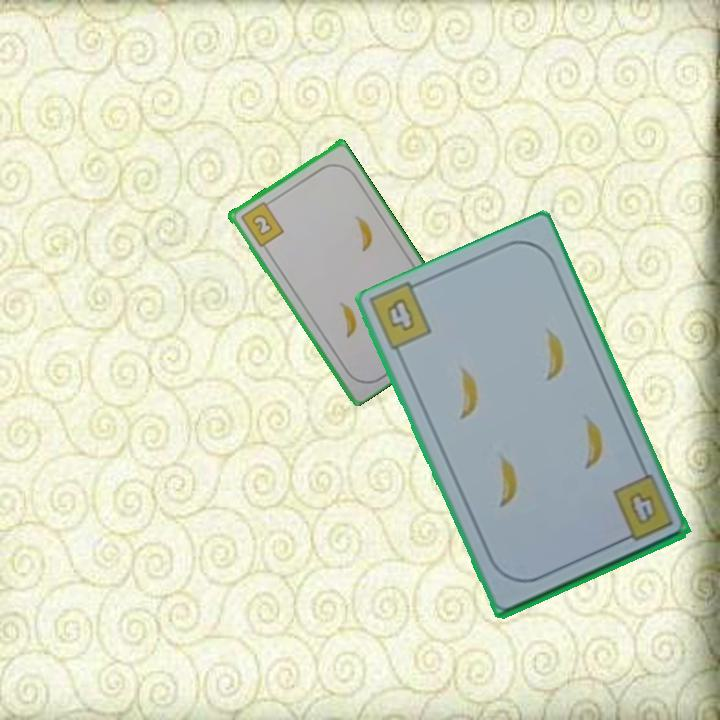2b: (237, 198, 286, 250)
4b: (609, 473, 676, 546), (382, 294, 418, 334)
